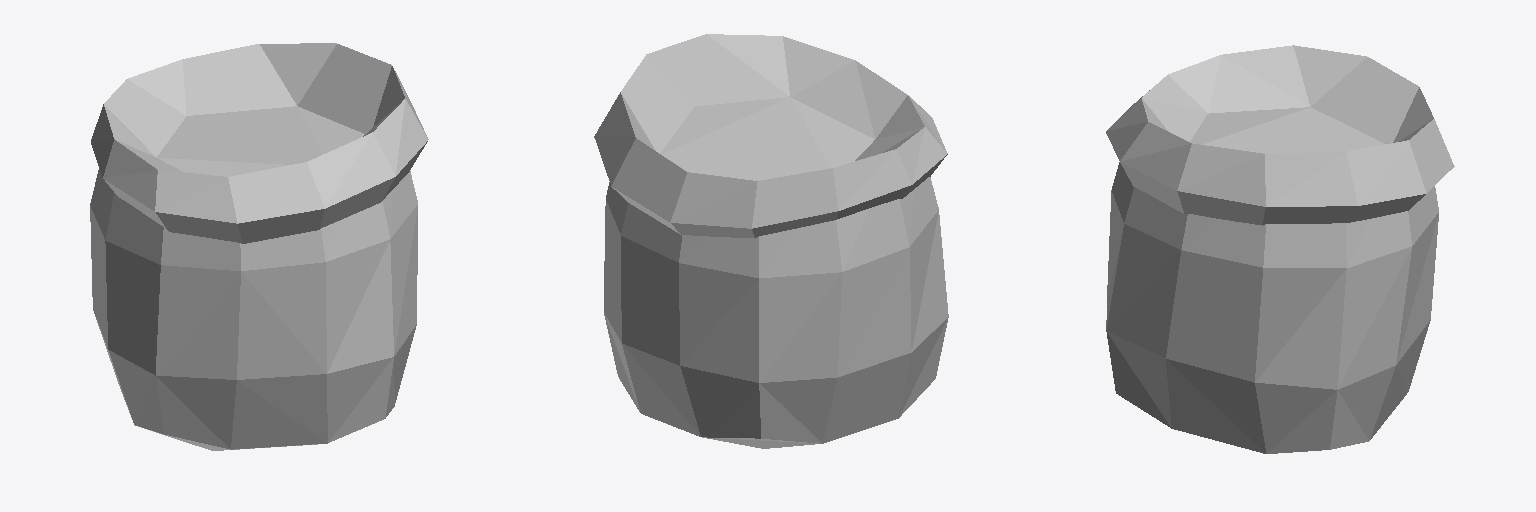
The model's file is bag_002.obj.
3 views of the same model, side by side, from view 1: azimuth 30°, elevation 25°; view 2: azimuth 150°, elevation 25°; view 3: azimuth 270°, elevation 25° (orthographic).
Parts seen in each view (by area): view 1: bag_002; view 2: bag_002; view 3: bag_002.
Boxes of the visible parts, x1=… form: bag_002: x1=90, y1=43, x2=428, y2=450; bag_002: x1=594, y1=34, x2=948, y2=448; bag_002: x1=1106, y1=45, x2=1454, y2=453.
Bounding box in the file's own units: 0.5387 × 0.5712 × 0.5477.